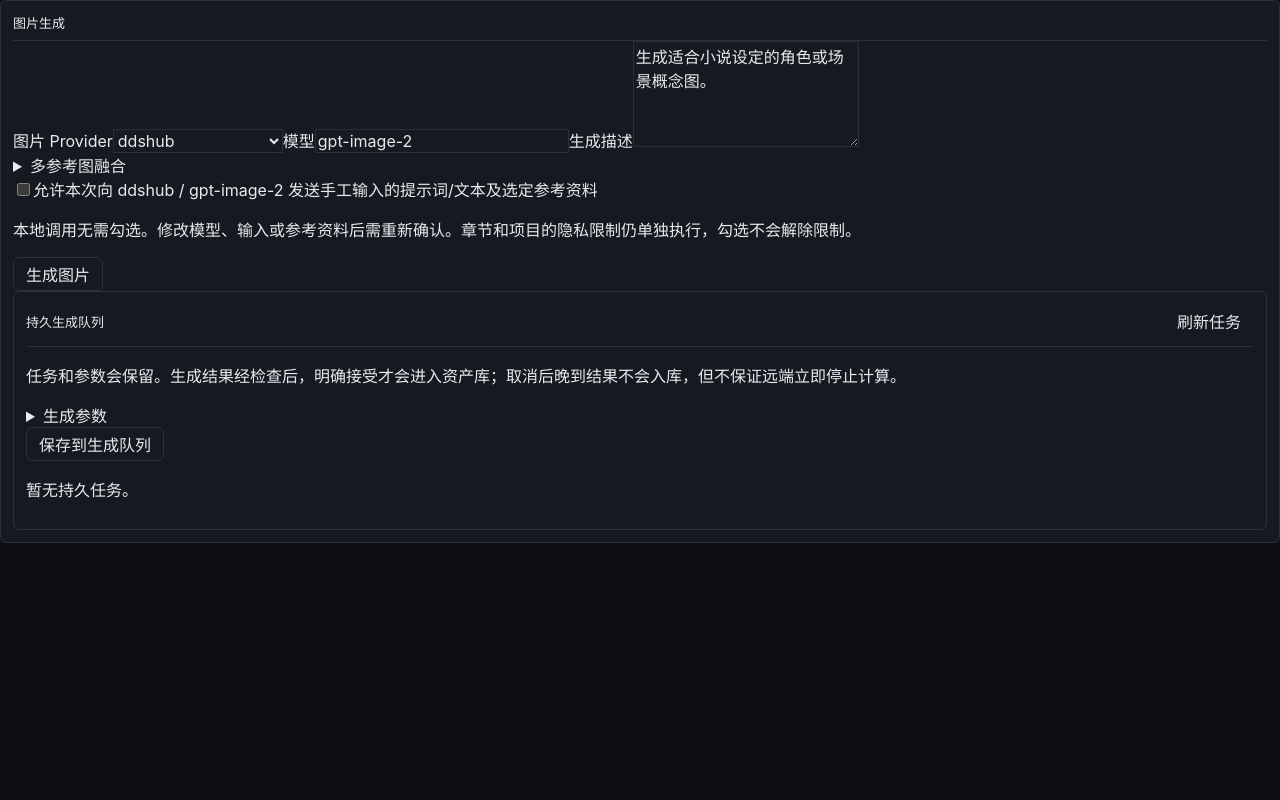
Scenario: marks failed requests without fabricating an image URI
Click the button "生成图片": {"x": 58, "y": 274} [13,257,103,291]
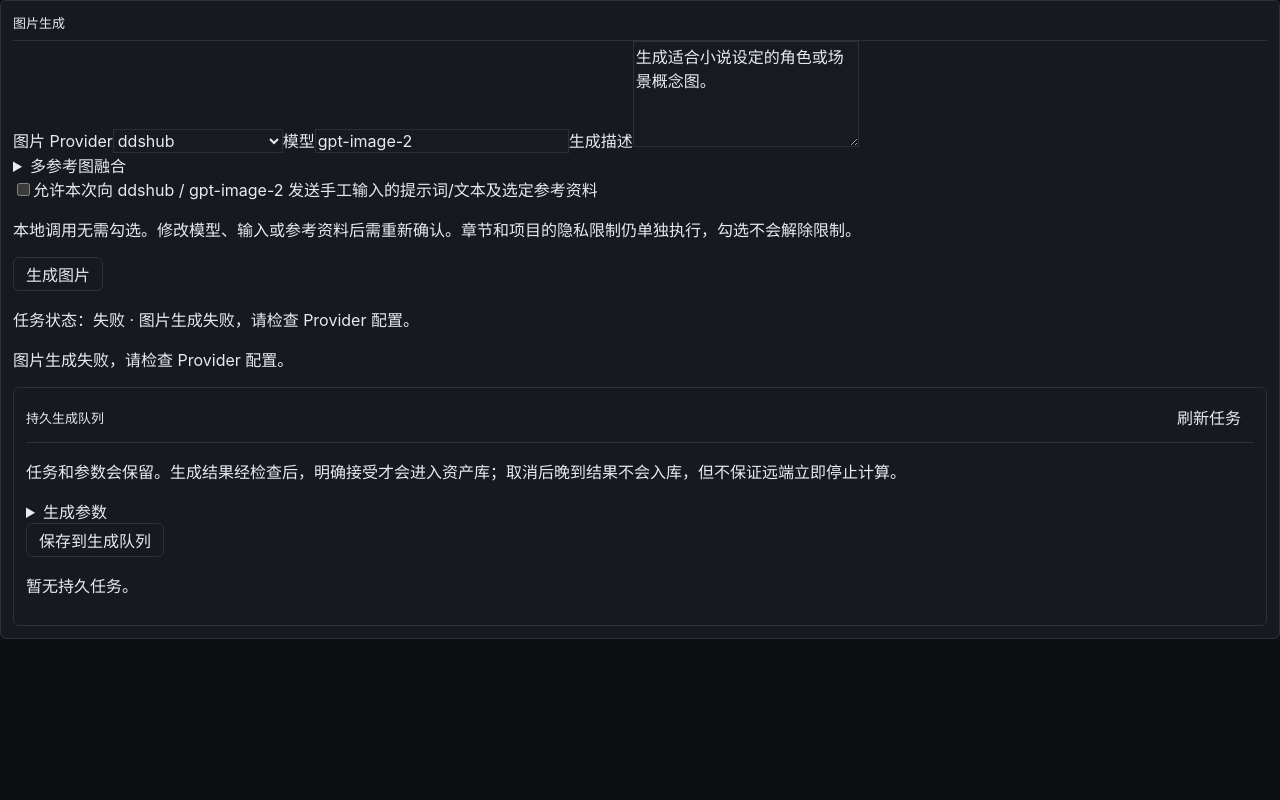
Expected: the text "任务状态：失败 · 图片生成失败，请检查 Provider 配置。" is shown, [13,310,419,330]
